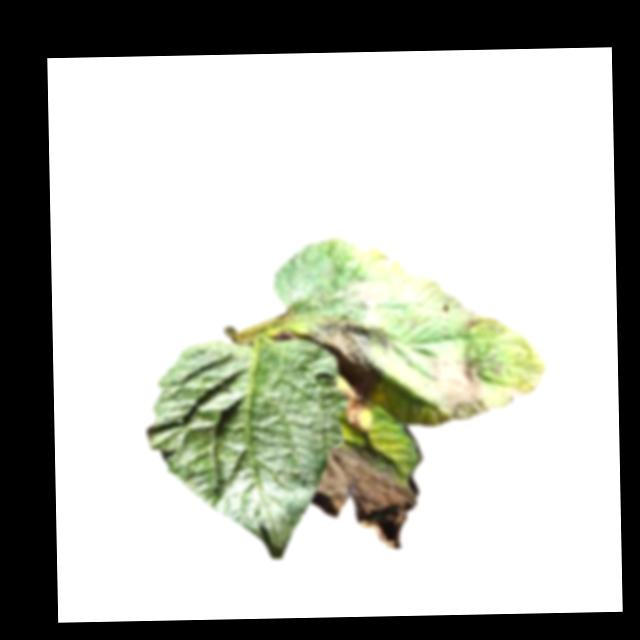Late_blight: (312, 438, 419, 552), (307, 314, 391, 393), (426, 356, 489, 423), (328, 275, 390, 313), (341, 389, 371, 436), (502, 382, 524, 406), (378, 255, 400, 272)
